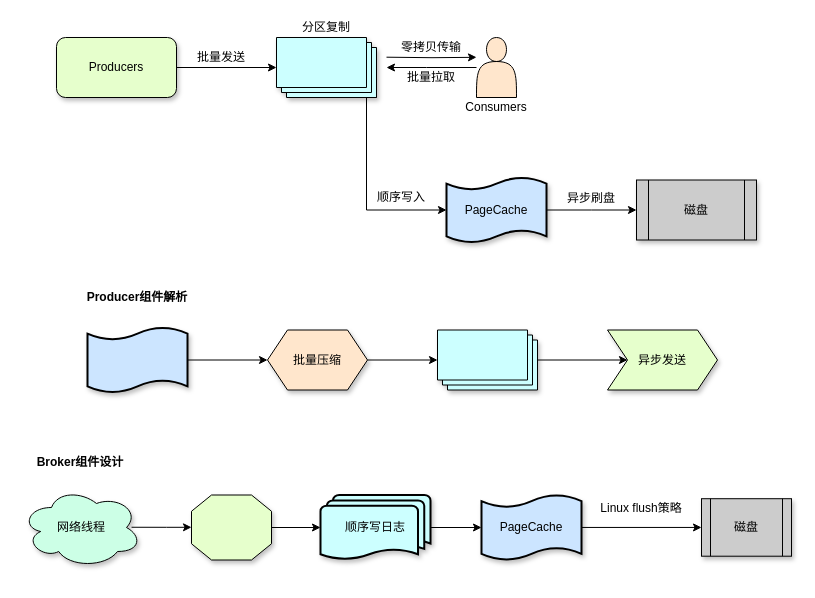
This 815x598 diagram has some shape labels left out. Here are the shapes that lost their labels. From the top down, the centre of each, then its label:
At point (327, 68): "Broker集群".
At point (138, 361): "消息缓冲池".
At point (488, 361): "按分区分组".
At point (232, 528): "IO线程池".
